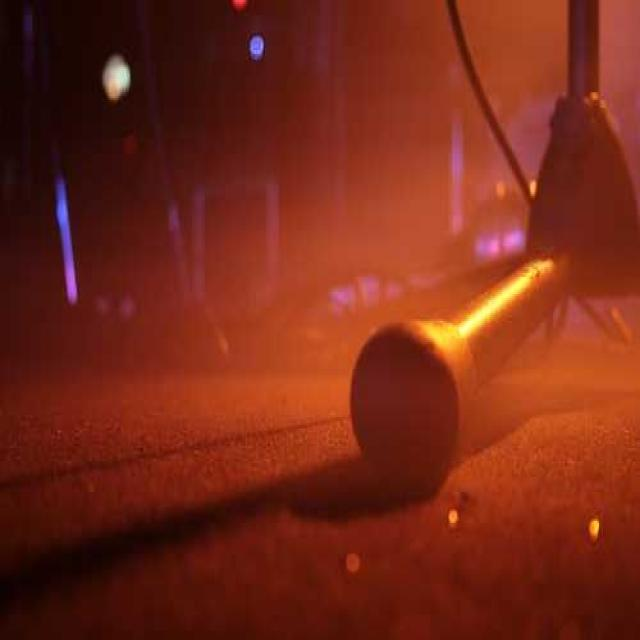microphone: (350, 252, 570, 490)
